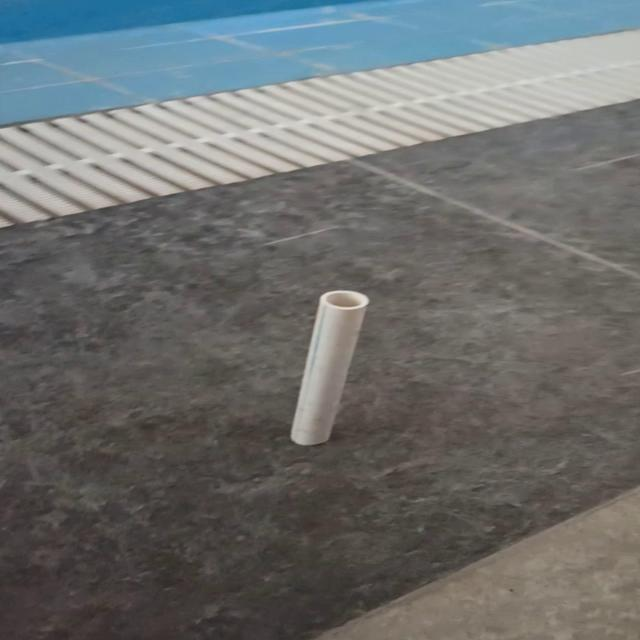Cube: (288, 289, 369, 445)
